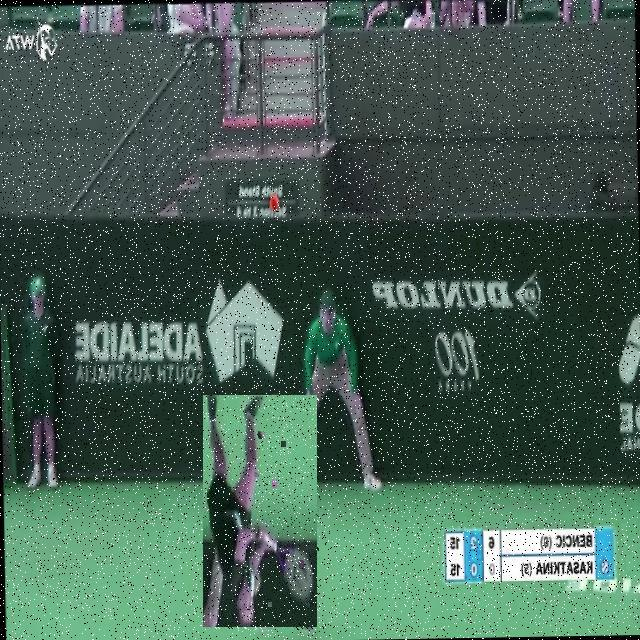ankle: (270, 604, 274, 609), (306, 604, 310, 609)
elbow: (274, 480, 279, 488), (255, 473, 259, 477)
knee: (266, 554, 272, 561), (300, 561, 304, 568)
player: (204, 396, 319, 629)
shoulder: (259, 432, 265, 439), (283, 443, 288, 449)
tennis racket: (206, 417, 261, 492)
